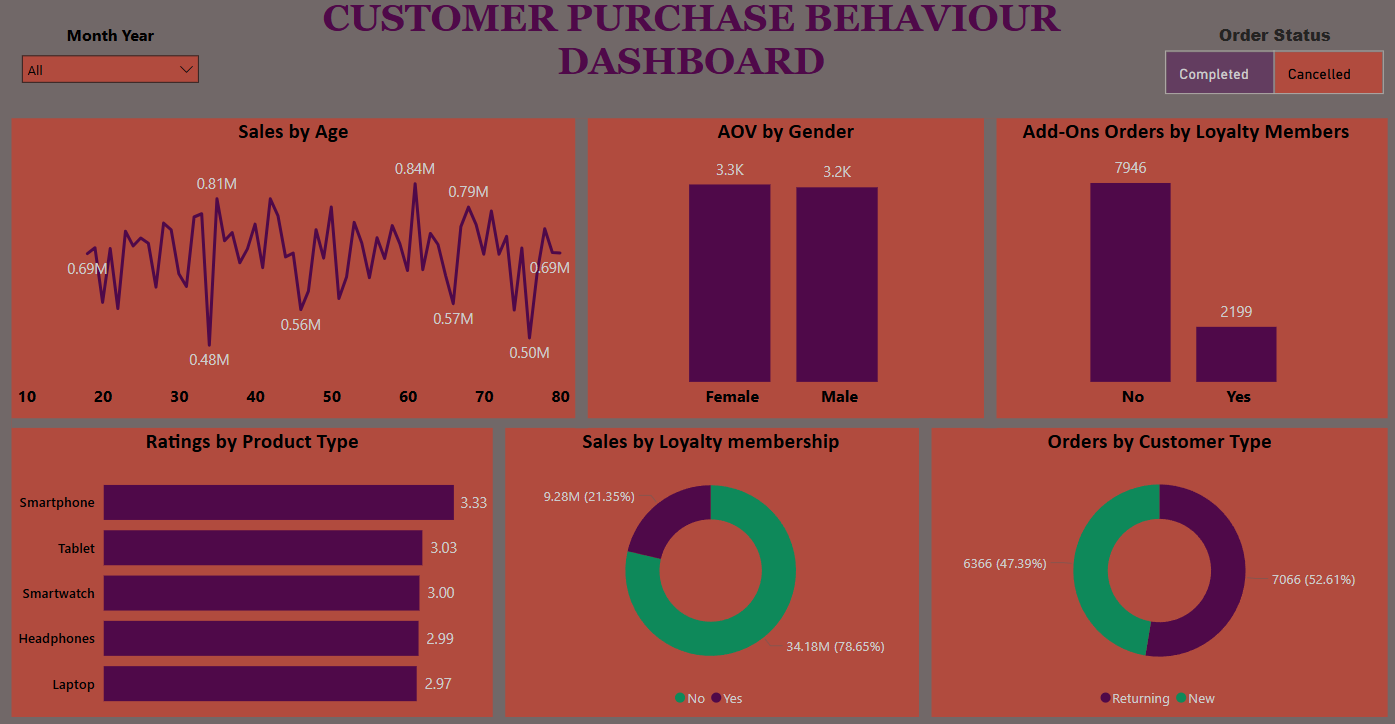

This screenshot's page, from the dashboard's own definition file:
{"tool":"powerbi","page":{"name":"Customer Purchase Behavior Dashboard","canvas":[1400,730],"ordinal":2},"visuals":[{"type":"shape","box":[12.4,125.6,1369.7,595.9],"z":0},{"type":"shape","box":[980.3,125.6,12.4,308.5],"z":1000},{"type":"shape","box":[573.5,125.6,12.4,308.5],"z":2000},{"type":"shape","box":[12.4,424.2,1387.1,10],"z":3000},{"type":"clusteredBarChart","fields":{"Category":["Electronic sales cleaned data.Product Type"],"Y":["Avg(Electronic sales cleaned data.Rating)"]},"box":[12.4,434.2,479,296.1],"z":4000},{"type":"lineChart","fields":{"Category":["Electronic sales cleaned data.Age"],"Y":["Electronic sales cleaned data.Total Sales"]},"box":[12.4,125.6,561.1,298.6],"z":5000},{"type":"columnChart","fields":{"Category":["Electronic sales cleaned data.Gender"],"Y":["Electronic sales cleaned data.AOV"]},"box":[585.9,125.6,394.4,298.6],"z":6000},{"type":"columnChart","fields":{"Category":["Electronic sales cleaned data.Loyalty Member"],"Y":["Electronic sales cleaned data.Add-ons orders"]},"box":[986.5,125.6,389.4,298.6],"z":7000},{"type":"donutChart","fields":{"Category":["Electronic sales cleaned data.Customer Type"],"Y":["CountNonNull(Electronic sales cleaned data.Customer ID)"]},"box":[928.1,434.2,454.1,287.4],"z":8000},{"type":"donutChart","fields":{"Category":["Electronic sales cleaned data.Loyalty Member"],"Y":["Electronic sales cleaned data.Total Sales"]},"box":[501.3,434.2,414.3,287.4],"z":9000},{"type":"shape","box":[491.4,429.2,12.4,301.1],"z":10000},{"type":"shape","box":[915.6,424.2,12.4,297.3],"z":11000},{"type":"textbox","box":[235.1,0,906.9,98.3],"z":12000},{"type":"slicer","title":"Month Year","fields":{"Values":["Electronic sales cleaned data.MONTH YEAR"]},"box":[12.4,31.1,196.6,75.9],"z":13000},{"type":"advancedSlicerVisual","fields":{"Values":["Electronic sales cleaned data.Order Status"]},"box":[1155.7,31.1,227.7,75.9],"z":14000}]}

Visuals, with their boxes in screenshot pixels (x1, y1, x2, y2), scaled from the page's 1400x730 canvas onto the 1395x724 screenshot:
shape: <region>12, 125, 1377, 716</region>
shape: <region>977, 125, 989, 431</region>
shape: <region>571, 125, 584, 431</region>
shape: <region>12, 421, 1394, 431</region>
clusteredBarChart - Electronic sales cleaned data.Product Type x Avg(Electronic sales cleaned data.Rating): <region>12, 431, 490, 723</region>
lineChart - Electronic sales cleaned data.Age x Electronic sales cleaned data.Total Sales: <region>12, 125, 571, 421</region>
columnChart - Electronic sales cleaned data.Gender x Electronic sales cleaned data.AOV: <region>584, 125, 977, 421</region>
columnChart - Electronic sales cleaned data.Loyalty Member x Electronic sales cleaned data.Add-ons orders: <region>983, 125, 1371, 421</region>
donutChart - Electronic sales cleaned data.Customer Type x CountNonNull(Electronic sales cleaned data.Customer ID): <region>925, 431, 1377, 716</region>
donutChart - Electronic sales cleaned data.Loyalty Member x Electronic sales cleaned data.Total Sales: <region>500, 431, 912, 716</region>
shape: <region>490, 426, 502, 723</region>
shape: <region>912, 421, 925, 716</region>
textbox: <region>234, 0, 1138, 97</region>
"Month Year" slicer: <region>12, 31, 208, 106</region>
advancedSlicerVisual - Electronic sales cleaned data.Order Status: <region>1152, 31, 1378, 106</region>
